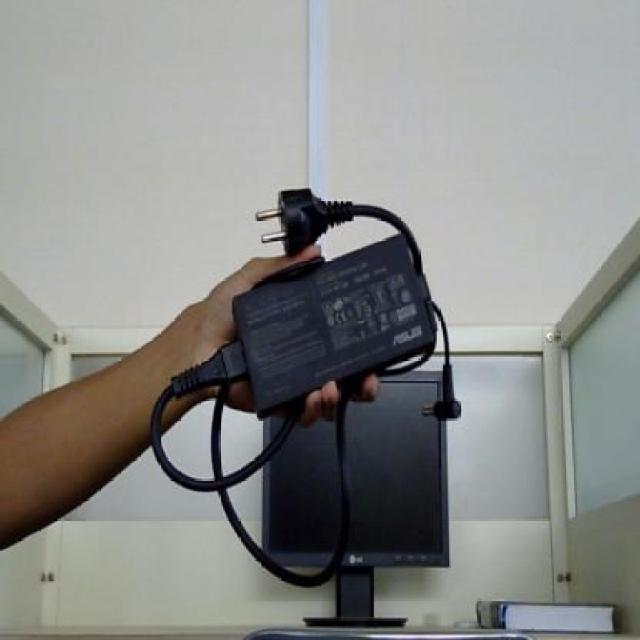Plastic: (151, 190, 459, 589)
